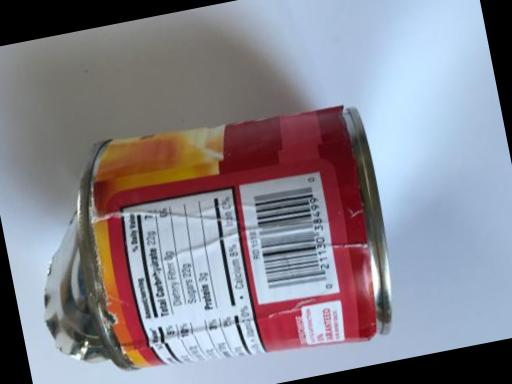metal: (0, 54, 477, 384)
